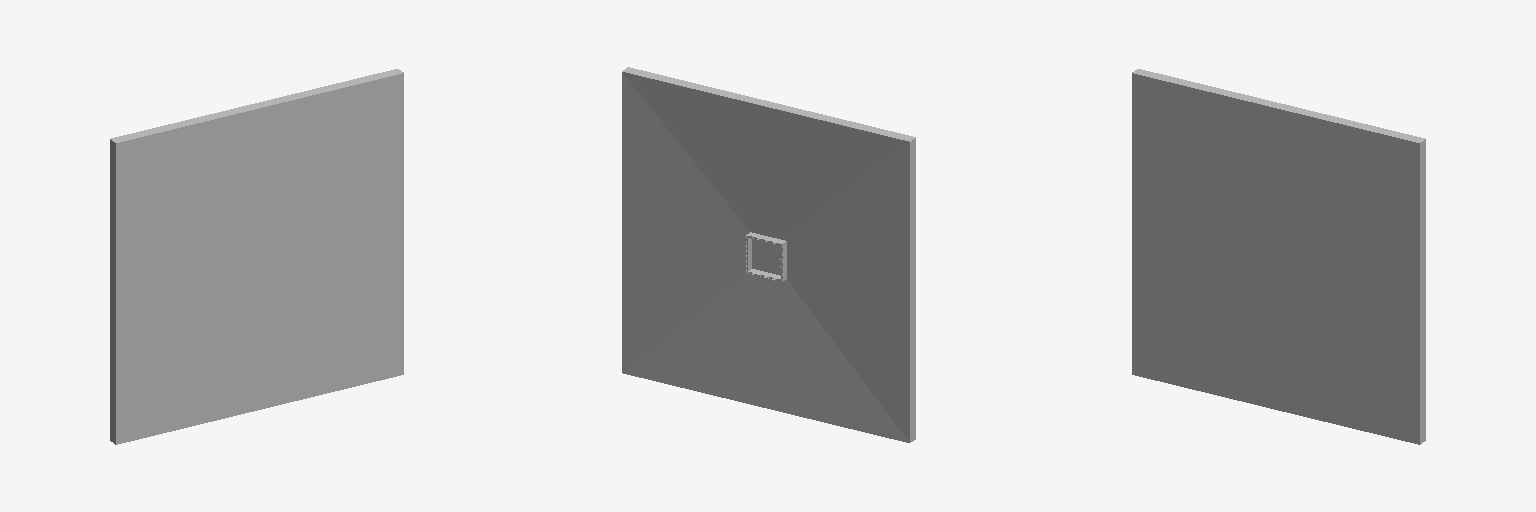
The model's file is Mapa00.obj.
3 renders of one model, left to right at view 1: azimuth 30°, elevation 25°; view 2: azimuth 150°, elevation 25°; view 3: azimuth 330°, elevation 25°, orthographic.
Parts seen in each view (by area): view 1: Plane; view 2: Plane; view 3: Plane.
Part boxes in pixels (left/top/right/bottom): Plane: left=110, top=69, right=403, bottom=444; Plane: left=622, top=67, right=915, bottom=442; Plane: left=1132, top=69, right=1425, bottom=444.
Bounding box in the file's own units: 211 × 211 × 10.54.